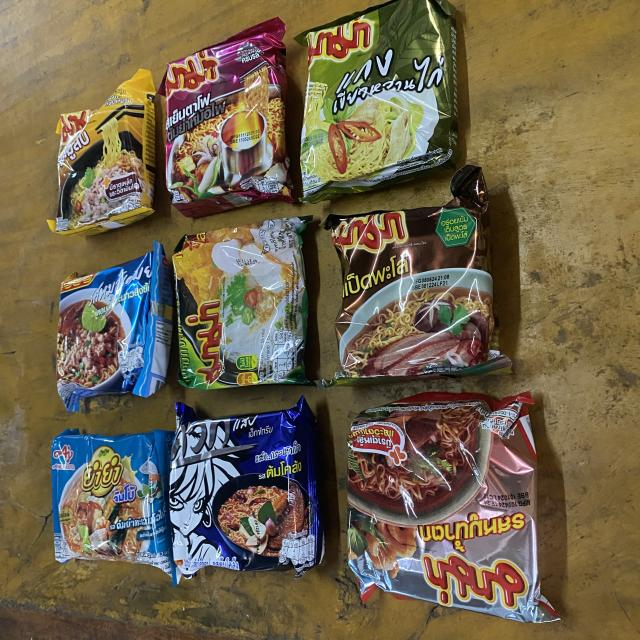plastik: (348, 391, 559, 622), (325, 165, 494, 380), (296, 0, 461, 202), (170, 398, 324, 578), (160, 18, 294, 218), (172, 216, 311, 389), (51, 430, 180, 584), (56, 241, 172, 411), (48, 69, 155, 235)
